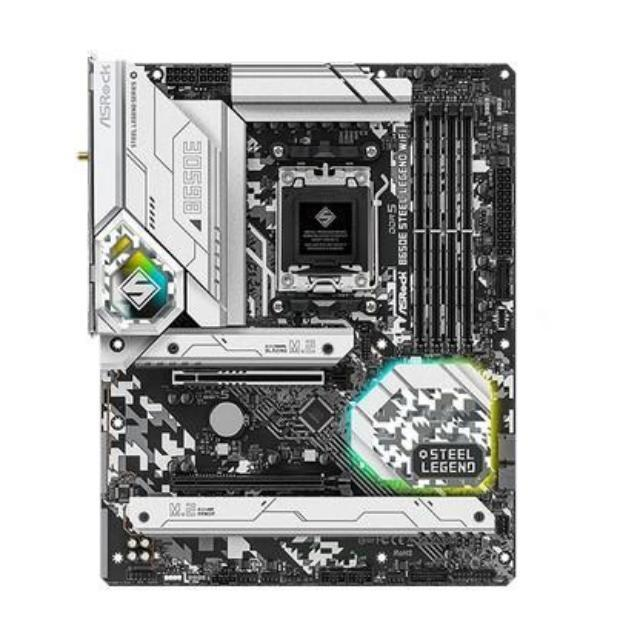Mainboard: (69, 47, 532, 595)
